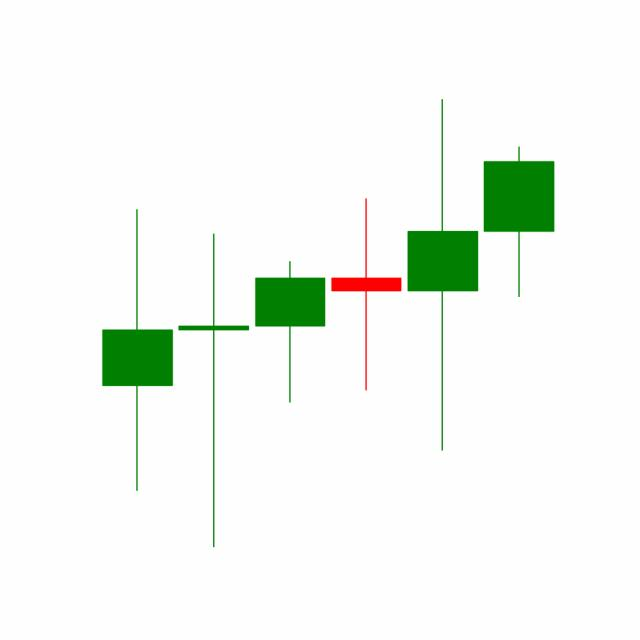Spinning Top: (403, 95, 481, 455)
